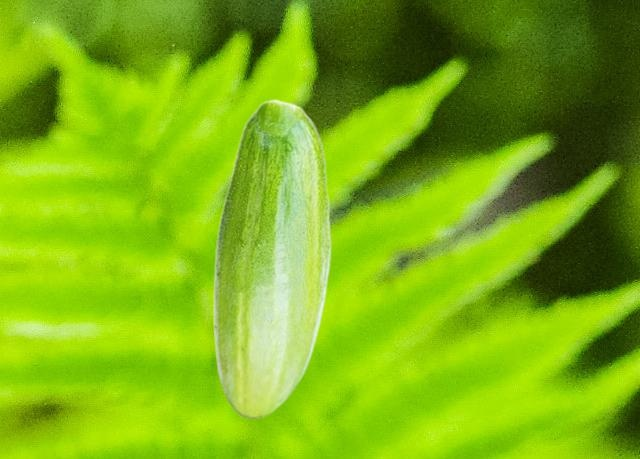cucumber: (212, 99, 330, 418)
